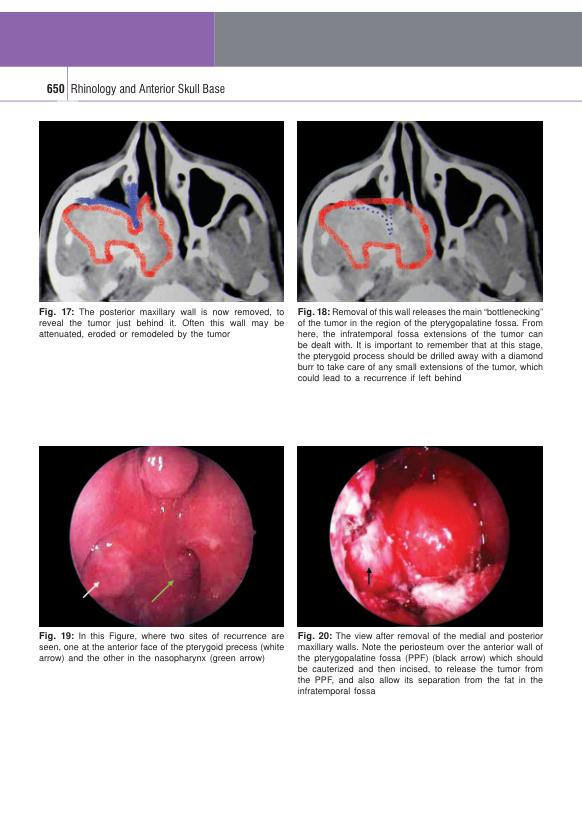caption: (295, 305, 544, 382), (296, 630, 545, 698), (37, 629, 285, 664), (38, 306, 286, 340)
header: (69, 82, 226, 97)
image: (37, 119, 285, 304), (38, 444, 284, 628), (296, 445, 543, 628), (297, 120, 543, 303)
